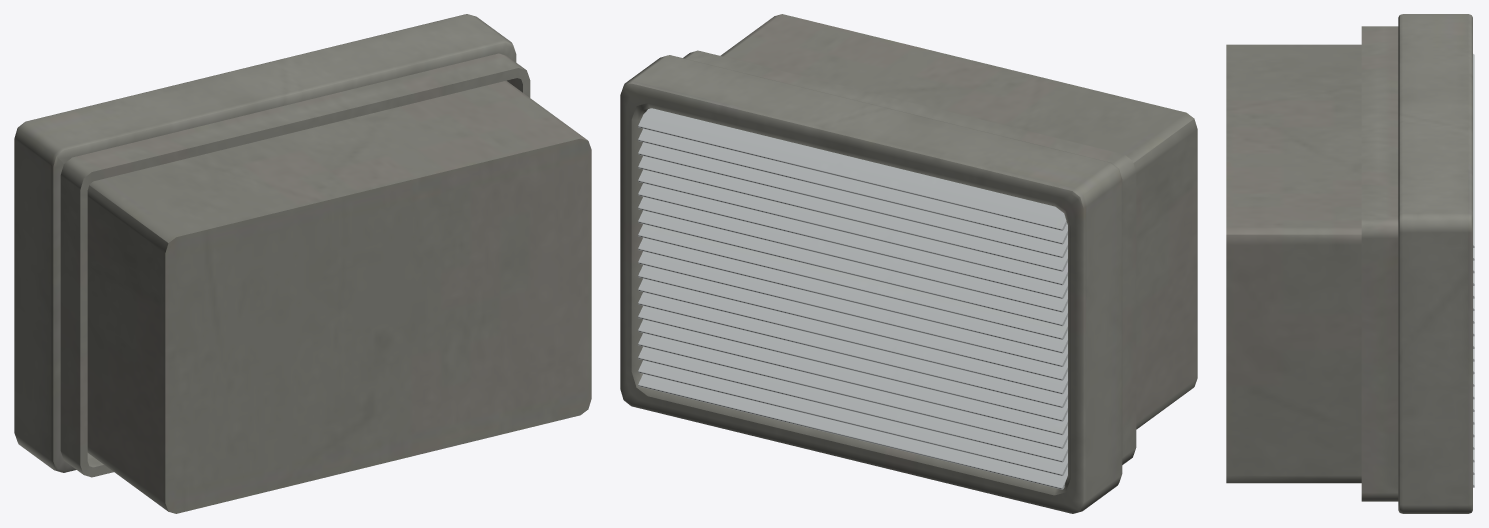
File: Vent2.glb
3 views of the same model, side by side, from view 1: azimuth 30°, elevation 25°; view 2: azimuth 150°, elevation 25°; view 3: azimuth 270°, elevation 25° (orthographic). The views are drawn at different scales.
Visible parts, largest first — view 1: defaultMaterial.007; view 2: defaultMaterial.007; view 3: defaultMaterial.007.
Part boxes in pixels (x1,y1,x2,y2): defaultMaterial.007: (14,14,591,513); defaultMaterial.007: (620,14,1197,513); defaultMaterial.007: (1226,14,1474,513).
Size of the model in its own units: 2 by 1.34 by 1.
1 material, 1 textured.
